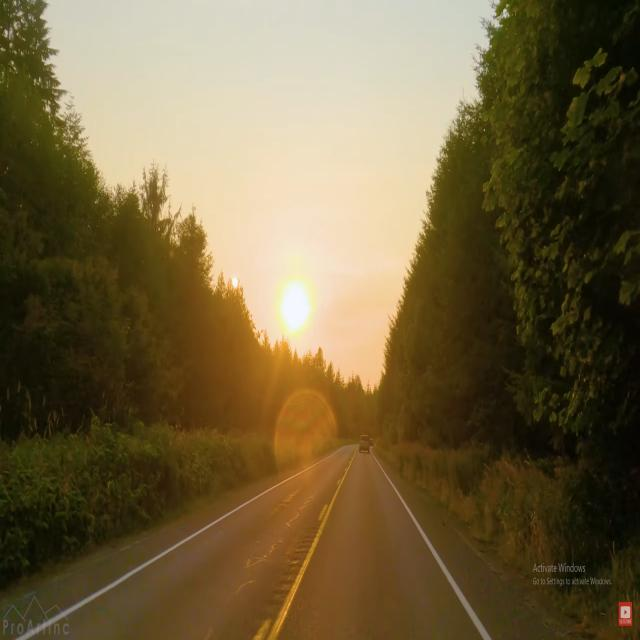sun: (270, 270, 322, 336)
